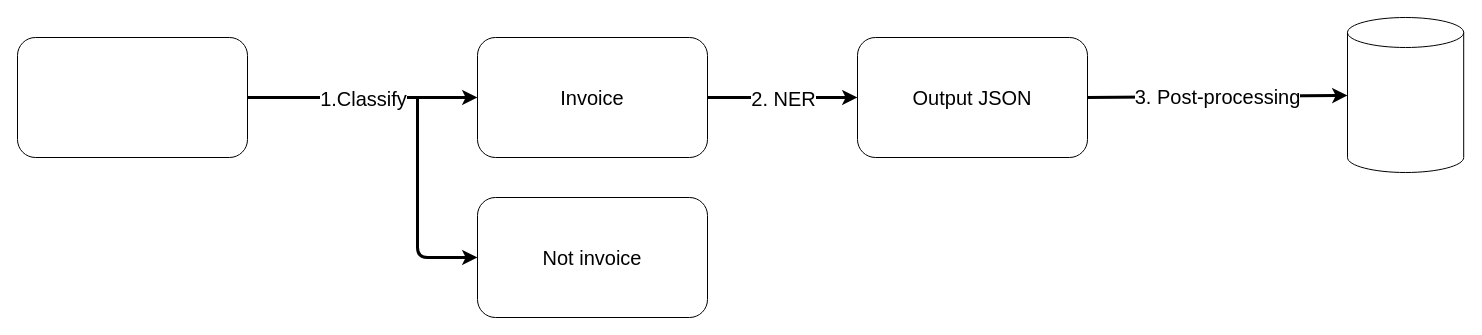
The diagram is 1482 pixels wide and 335 high, and some of its shapes have lost their labels. The centre of each missing label's shape, as x and y in pixels:
"Document page" belongs at point 132,97.
"Storage" belongs at point 1405,94.
